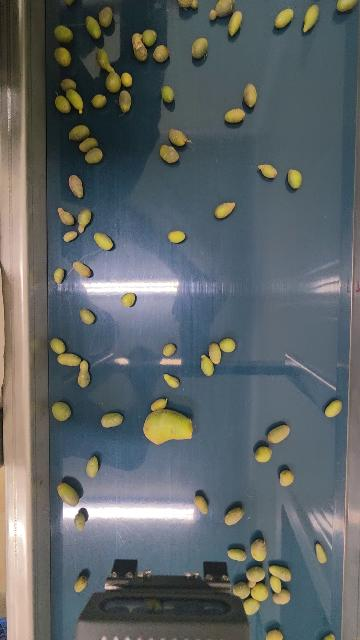Baby Potato: (144, 409, 197, 446), (55, 484, 80, 507), (64, 88, 85, 115), (303, 4, 320, 36), (131, 32, 149, 61), (225, 11, 244, 38), (208, 0, 235, 19), (265, 425, 292, 443), (271, 8, 294, 29), (249, 540, 269, 564), (97, 48, 116, 72), (80, 146, 104, 165), (76, 207, 92, 234), (270, 564, 294, 582), (51, 95, 72, 115), (167, 127, 188, 147), (93, 232, 114, 252), (51, 401, 71, 422), (245, 566, 266, 586), (250, 580, 269, 602), (215, 201, 237, 220), (97, 413, 123, 429), (65, 123, 88, 141), (199, 354, 216, 378), (159, 144, 180, 163), (191, 37, 209, 59), (217, 336, 239, 354), (52, 26, 75, 43), (233, 581, 256, 598), (77, 358, 90, 388), (55, 207, 75, 226), (225, 507, 244, 527), (105, 71, 122, 93), (325, 396, 342, 418), (86, 16, 102, 39), (287, 167, 303, 190), (255, 444, 273, 464), (68, 176, 84, 198), (223, 108, 246, 123), (72, 262, 92, 279), (209, 340, 222, 366), (118, 90, 132, 114), (243, 84, 257, 108), (314, 542, 329, 564), (277, 468, 294, 487), (58, 353, 81, 367), (54, 47, 70, 67), (257, 164, 278, 179), (153, 45, 170, 63), (162, 372, 180, 389), (242, 598, 261, 614), (72, 572, 85, 595), (98, 6, 112, 27), (78, 137, 99, 151), (147, 397, 168, 411), (195, 496, 209, 517), (226, 548, 247, 562), (140, 30, 158, 46), (159, 85, 175, 103), (166, 229, 186, 243), (86, 456, 99, 477), (79, 308, 95, 325), (120, 291, 136, 308), (269, 575, 284, 593), (271, 591, 289, 606), (337, 1, 359, 13), (59, 79, 79, 92), (162, 343, 179, 358), (263, 626, 282, 639), (51, 337, 65, 354), (91, 93, 106, 108), (75, 512, 86, 531), (121, 69, 133, 86), (179, 0, 200, 9), (63, 231, 77, 243), (54, 269, 65, 284), (325, 634, 335, 640)
